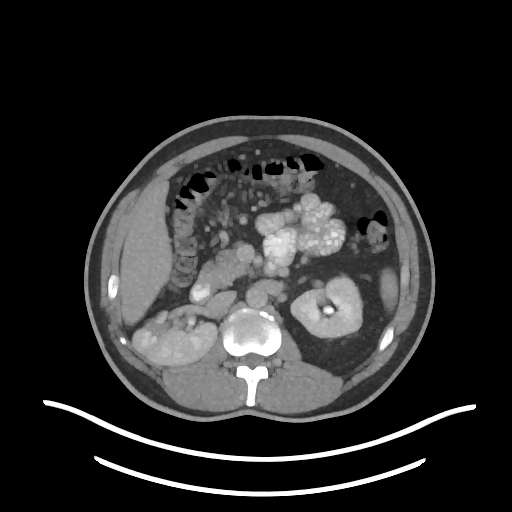Lesion: (354, 318, 362, 333)
